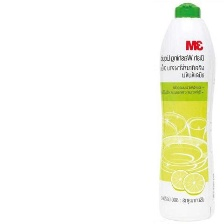cleaning_solution: (157, 0, 218, 224)
